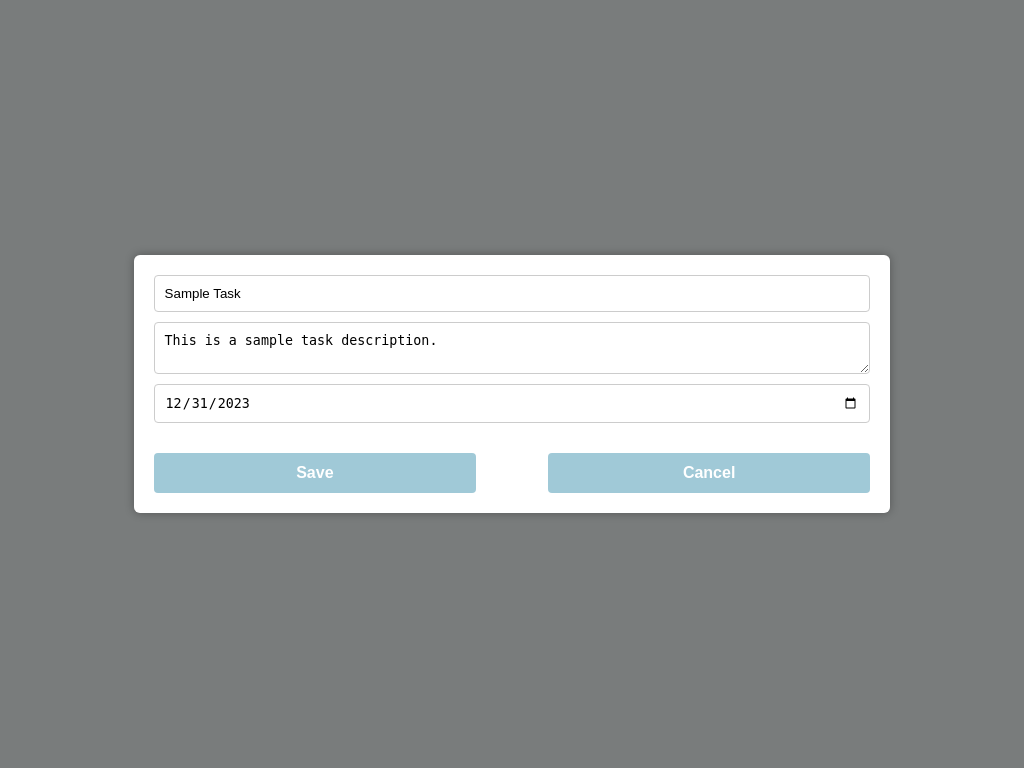
FormModal Component › handles form input changes
Replace the text in the field with placeholder "Title" with "Updated Task" at (513, 294), box [154, 275, 871, 312]
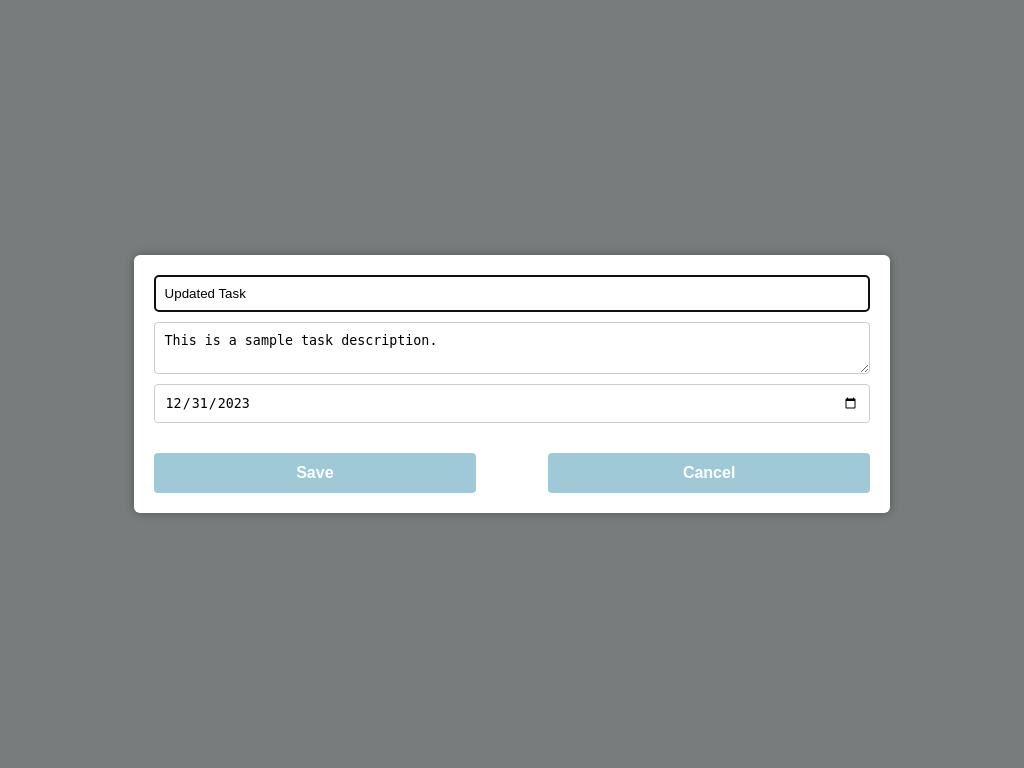
Replace the text in the text box with placeholder "Description" with "Updated Description" at (513, 348), box [154, 322, 871, 374]
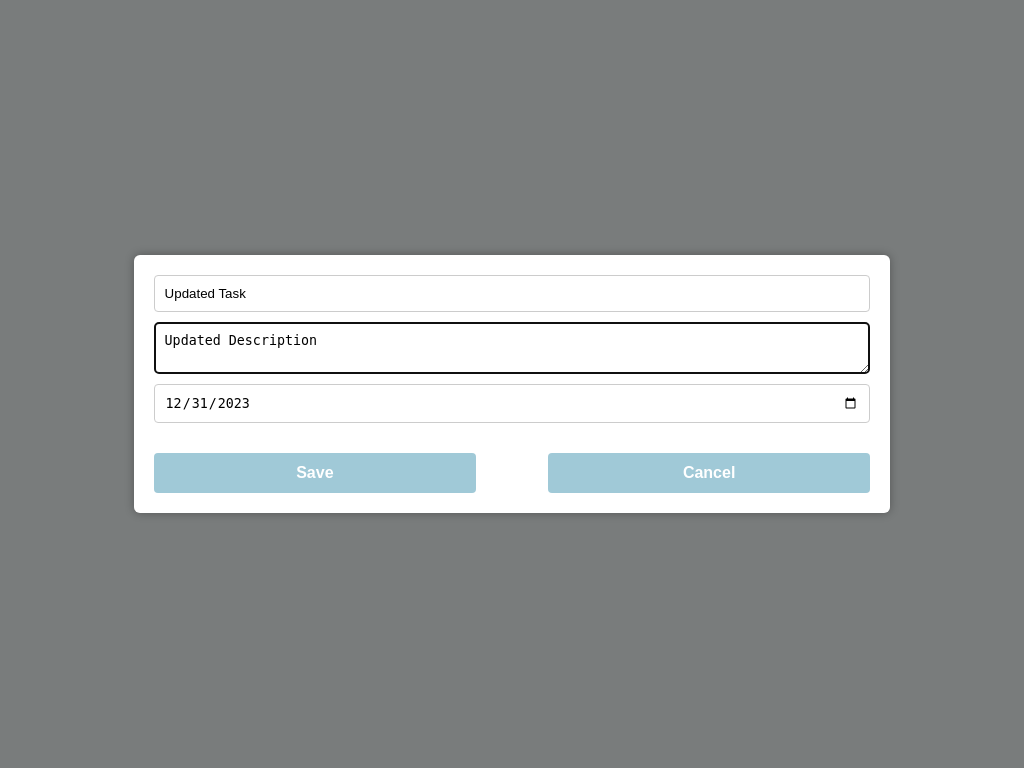
Type "2023-11-30" into the date field at (513, 404), box [154, 384, 871, 423]
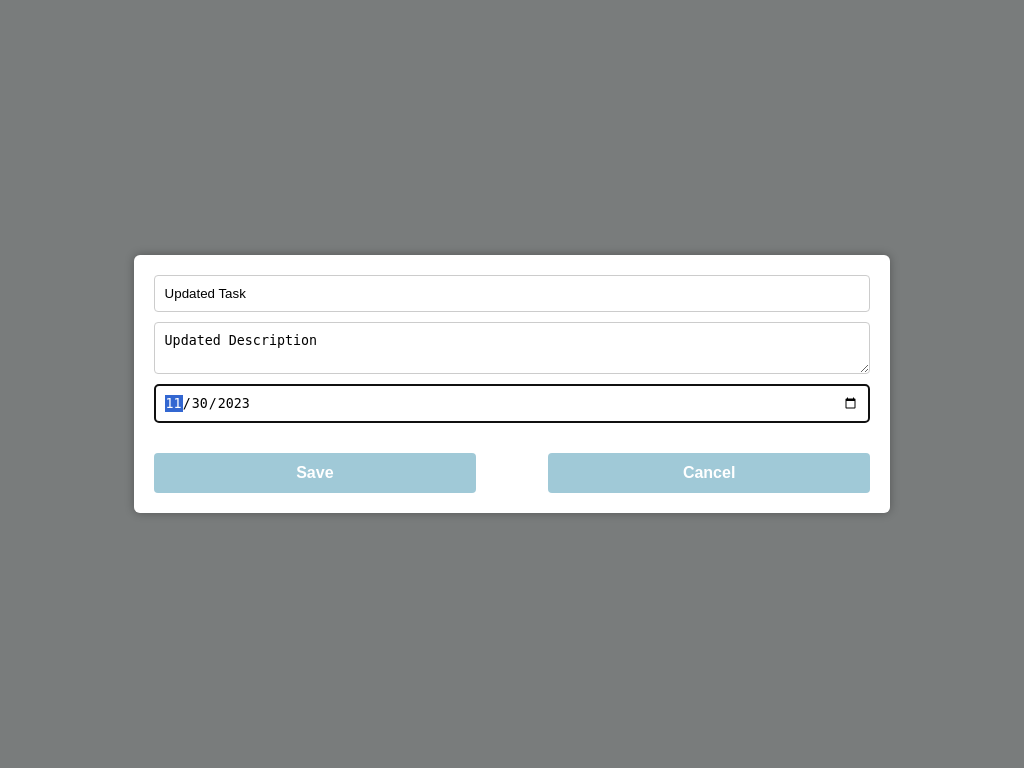
Expected: the field with placeholder "Title" holds "Updated Task", [154, 275, 871, 312]
Expected: the text box with placeholder "Description" holds "Updated Description", [154, 322, 871, 374]
Expected: the date field holds "2023-11-30", [154, 384, 871, 423]
